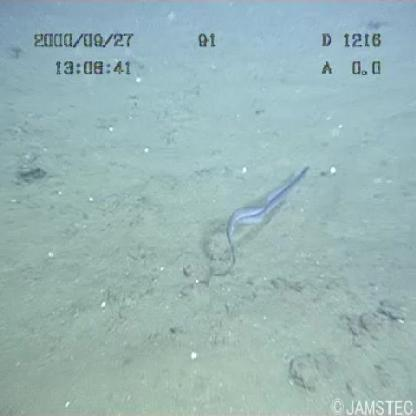Bio: (213, 160, 314, 280)
